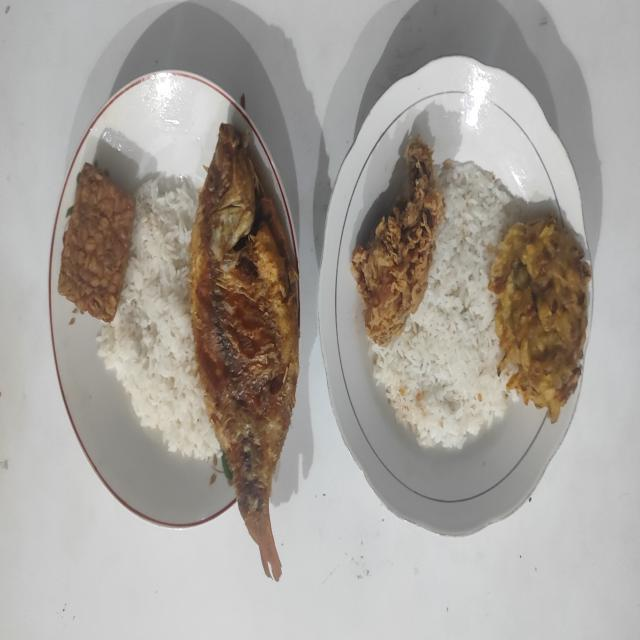ikan_mujair: (188, 125, 300, 580)
nasi_putih: (368, 162, 514, 448), (96, 176, 221, 460)
tempe_goreng: (58, 163, 136, 322)
